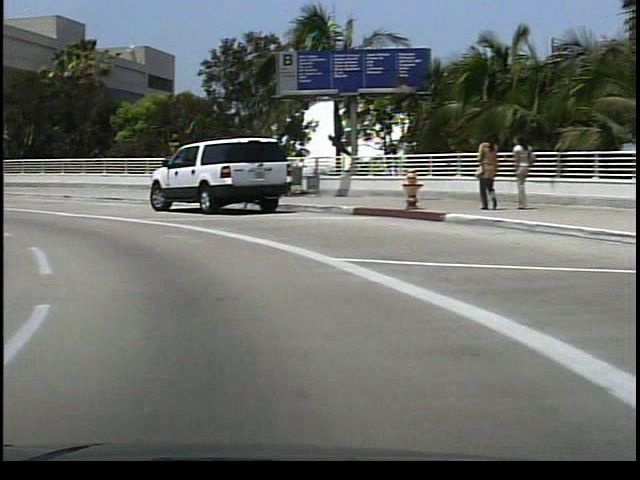person: (501, 132, 529, 212), (468, 129, 493, 216)
